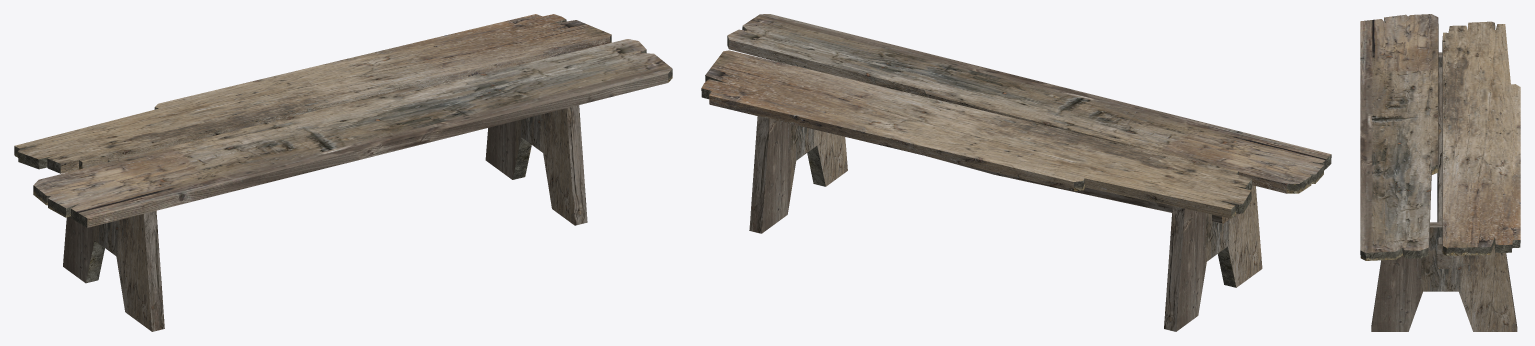
File: Bench.fbx
3 views of the same model, side by side, from view 1: azimuth 30°, elevation 25°; view 2: azimuth 150°, elevation 25°; view 3: azimuth 270°, elevation 25° (orthographic). The views are drawn at different scales.
Visible parts, largest first — view 1: polySurface249; view 2: polySurface249; view 3: polySurface249.
Boxes of the visible parts, x1=… form: polySurface249: x1=14, y1=14, x2=672, y2=331; polySurface249: x1=701, y1=14, x2=1331, y2=331; polySurface249: x1=1360, y1=14, x2=1520, y2=331.
Size of the model in its own units: 2.54 by 0.5702 by 0.7196.
